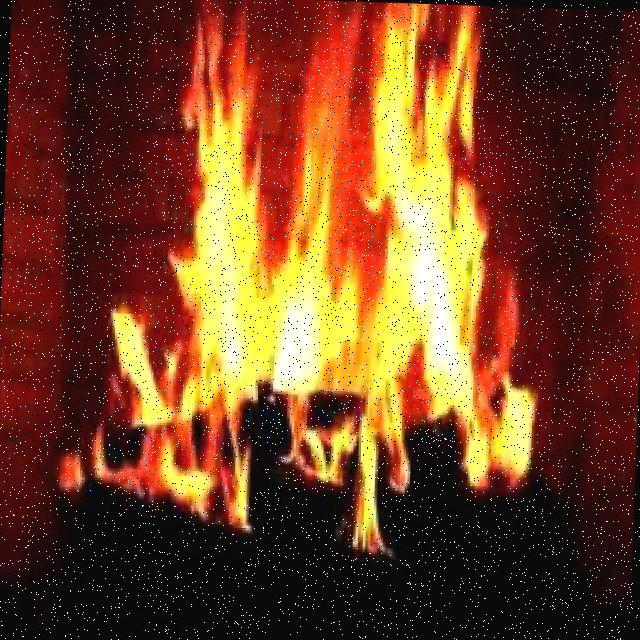Fire: (155, 36, 534, 495)
